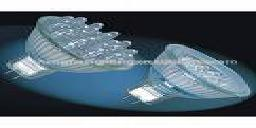LED: (6, 12, 137, 87), (131, 42, 251, 110)
